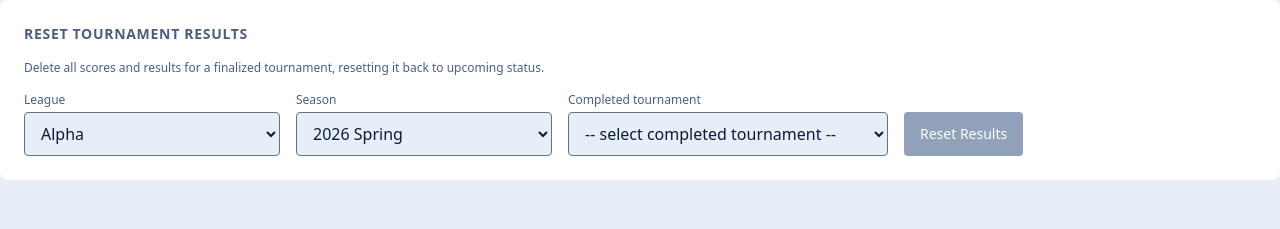
Test: ResetTournamentSection › lists exactly the season's tournaments the server says reset accepts, and resets on confirm
The width and height of the screenshot is (1280, 229).
Select "Wk 1 — Sony Open" in the dropdown labelled "Completed tournament" at point(728, 134), box [568,112,888,156]
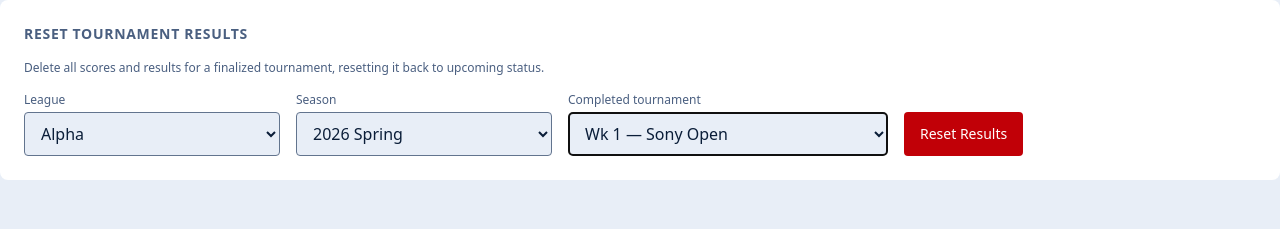
Click the button "Reset Results" at point(964, 134), box [904,112,1023,156]
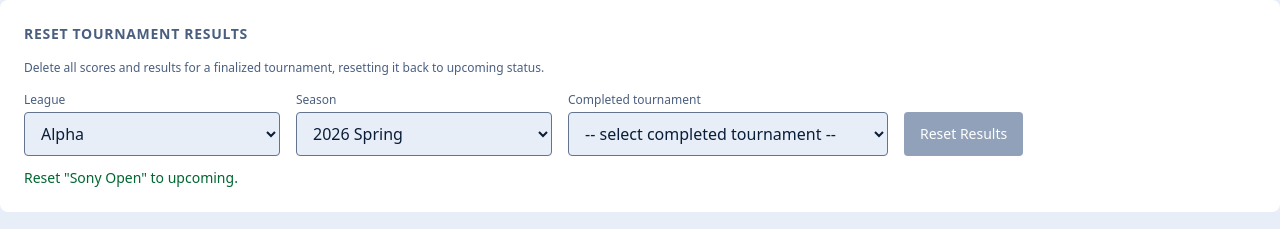
Expected: the text "Reset \"Sony Open\" to upcoming." is shown, [24,168,238,187]
